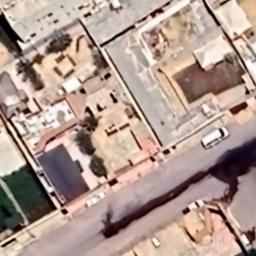pickup: (182, 198, 204, 218)
van: (200, 126, 232, 150)
